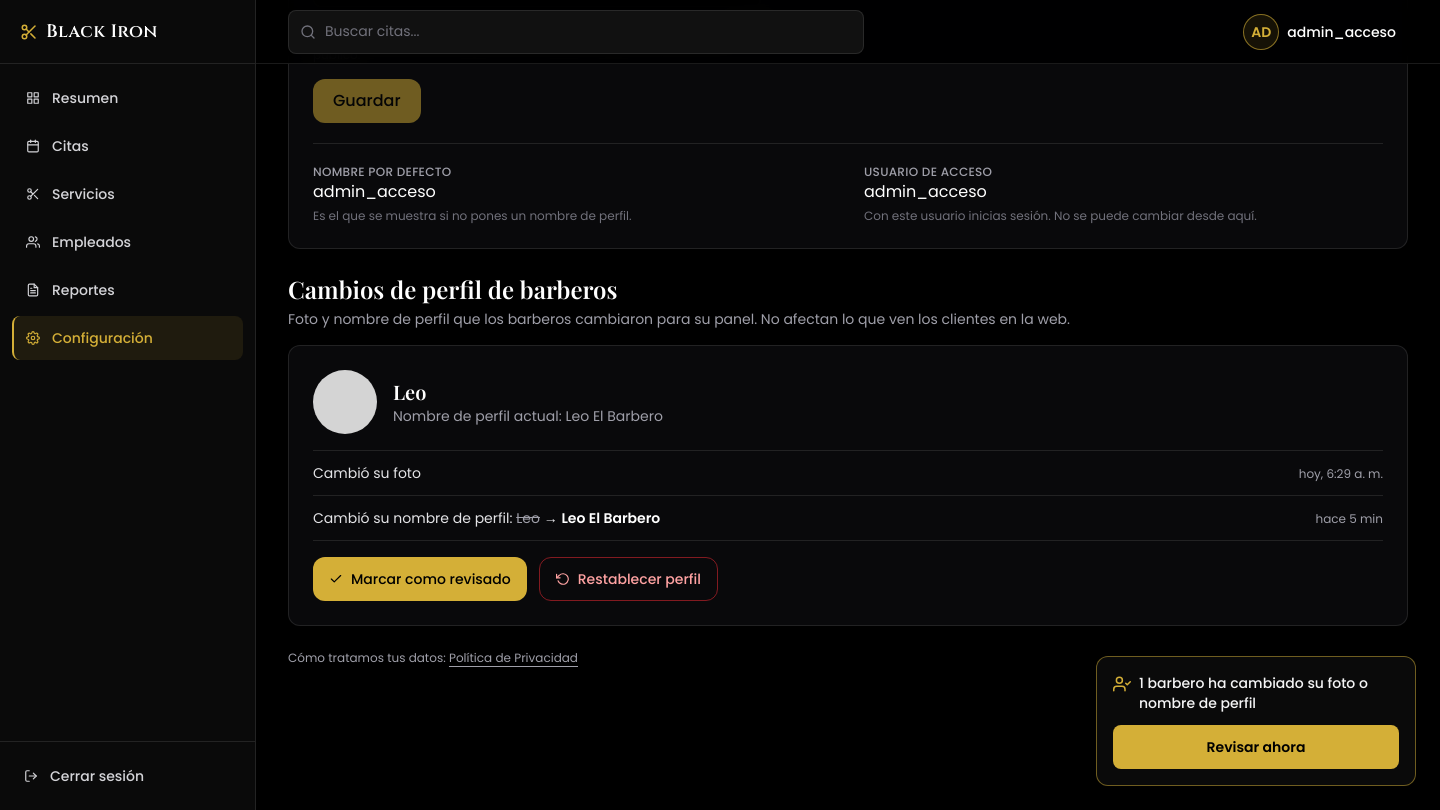
Test: Vista de revisión en /admin/configuracion › un error al restablecer se muestra dentro del diálogo, que sigue abierto, y la tarjeta se conserva
(page scrolled)
Click the button with aria-label "Restablecer el perfil de Leo". click: (628, 579)
box: [539,557,718,601]
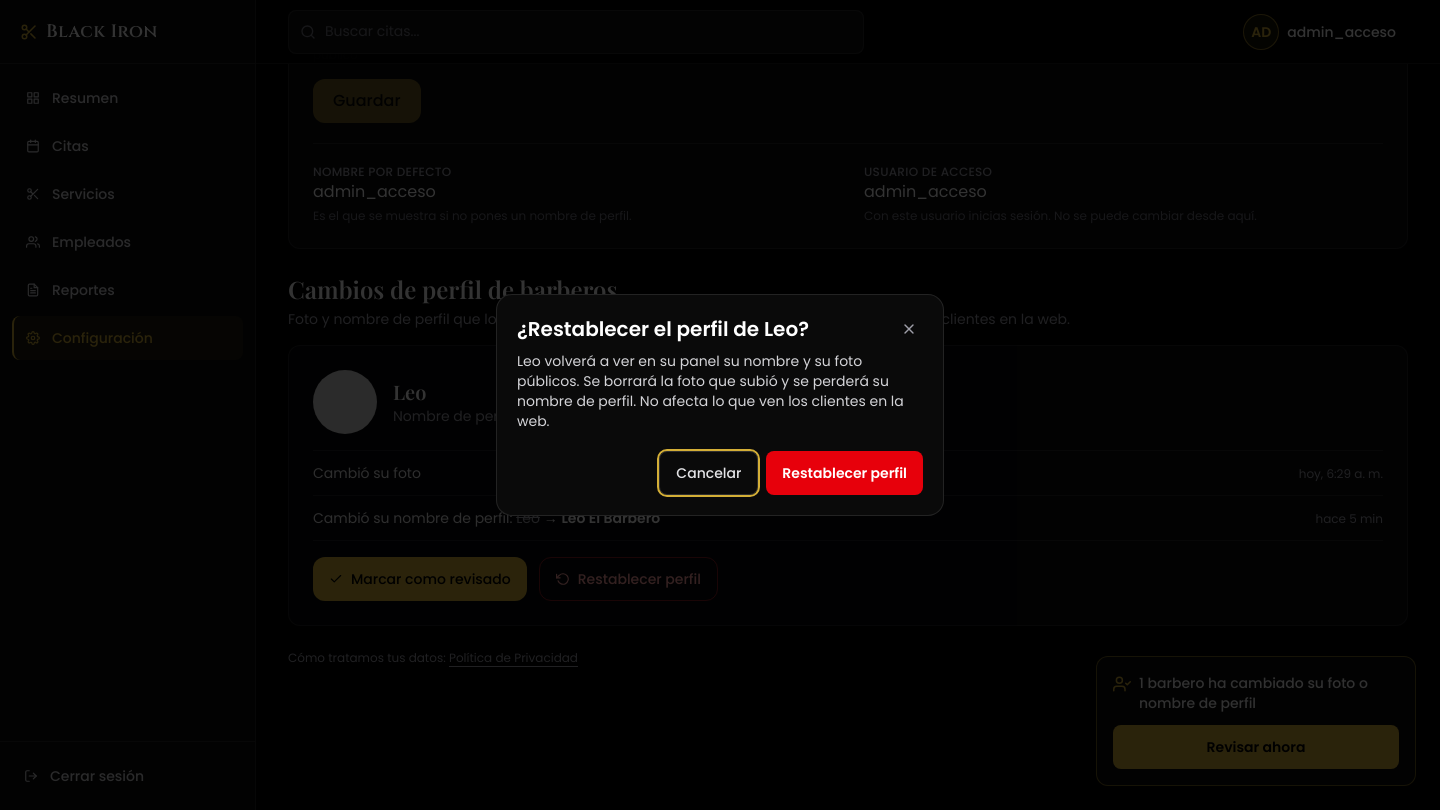
Click the button "Restablecer perfil". click: (845, 473)
box: [766,451,923,495]
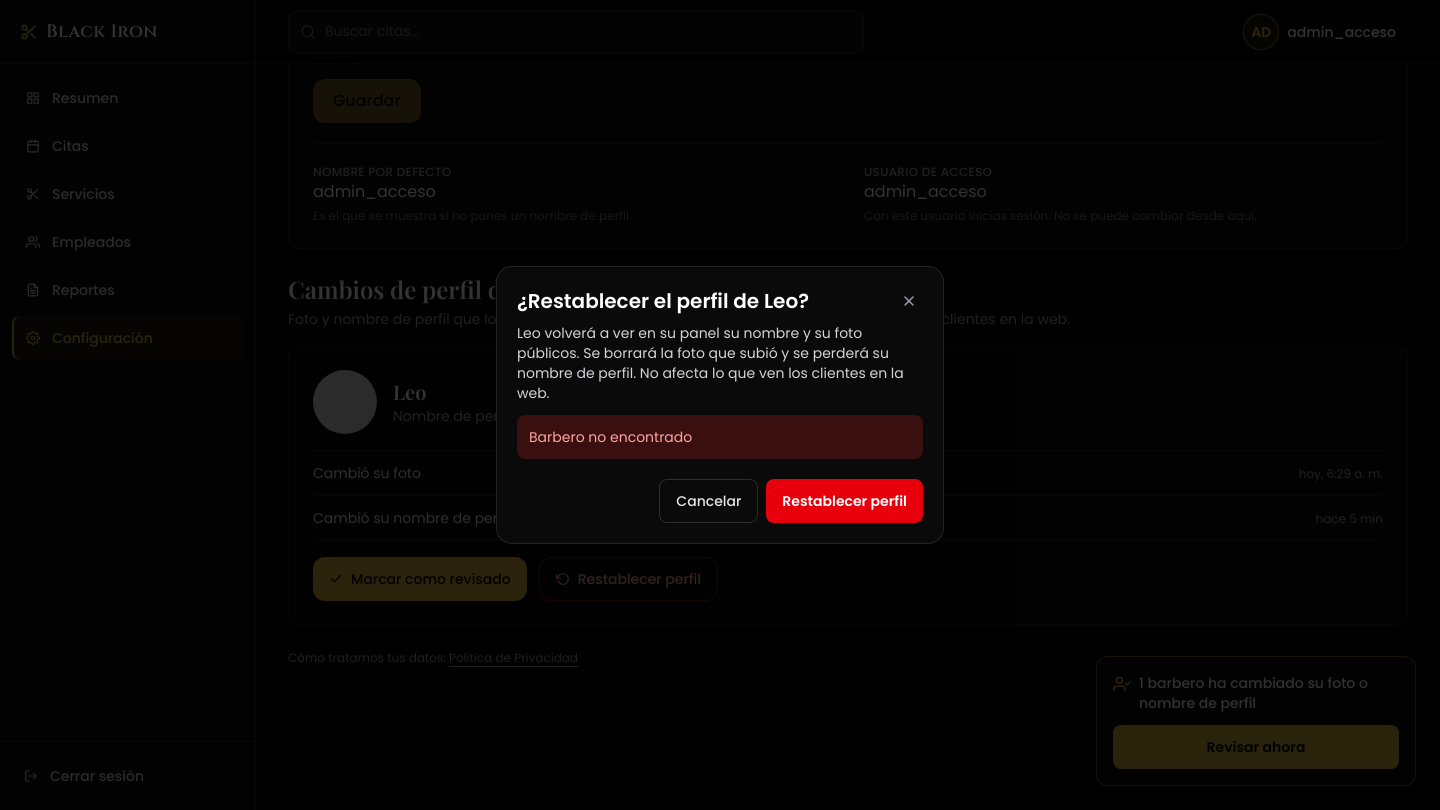
Expected: the element named "Cambios de perfil de Leo" is shown, [288,345,1408,626]
Expected: the dialog is shown, [496,266,944,544]
Expected: the message reads "Barbero no encontrado", [529,427,692,447]
